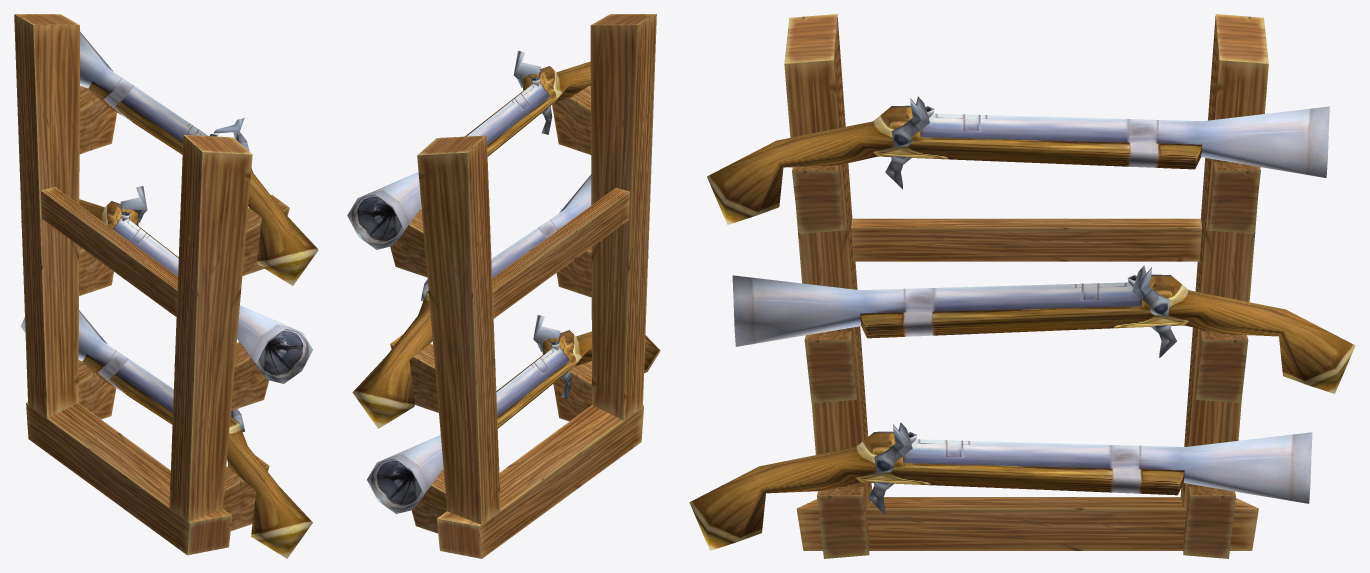
Rendered from gunrack01d.obj.
3 renders of one model, left to right at view 1: azimuth 30°, elevation 25°; view 2: azimuth 150°, elevation 25°; view 3: azimuth 270°, elevation 25°, orthographic. The views are drawn at different scales.
Parts seen in each view (by area): view 1: Geoset0, Geoset1; view 2: Geoset0, Geoset1; view 3: Geoset1, Geoset0.
Boxes of the visible parts, x1=… form: Geoset0: x1=14, y1=14, x2=289, y2=555; Geoset1: x1=20, y1=31, x2=318, y2=558; Geoset0: x1=390, y1=14, x2=656, y2=558; Geoset1: x1=347, y1=50, x2=660, y2=513; Geoset1: x1=689, y1=96, x2=1355, y2=550; Geoset0: x1=784, y1=14, x2=1268, y2=558.
Bounding box in the file's own units: 0.3639 × 1.54 × 1.77.
2 materials, 2 textured.
